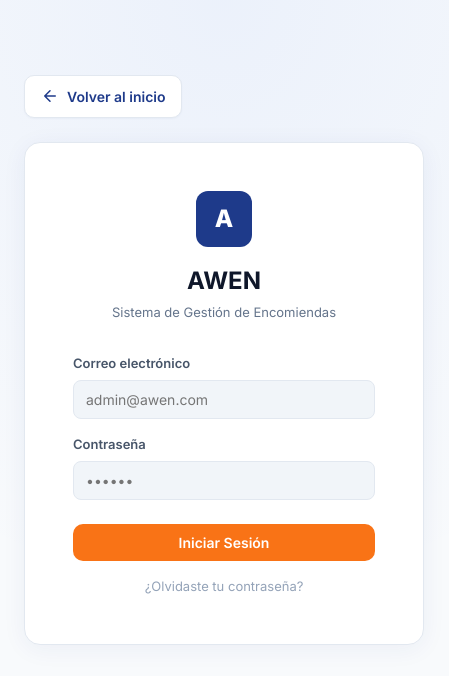
Login page › shows error on failed login
The width and height of the screenshot is (449, 676).
In the field: (224, 400) [73,380,375,419], type "bad@test.com"
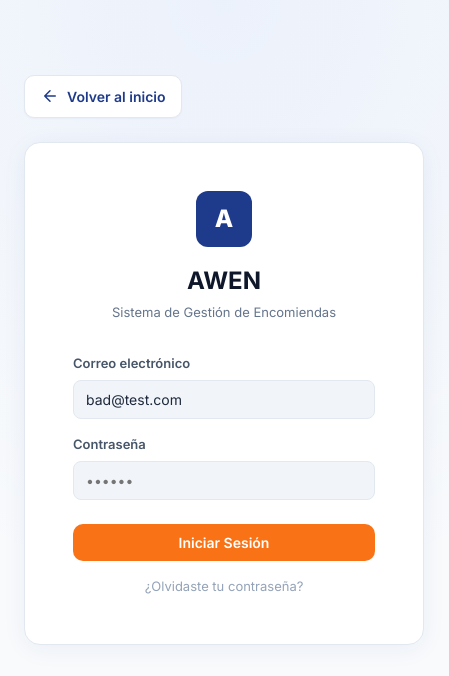
In the password field with placeholder "••••••": (224, 480) [73,460,375,500], type "wrong"
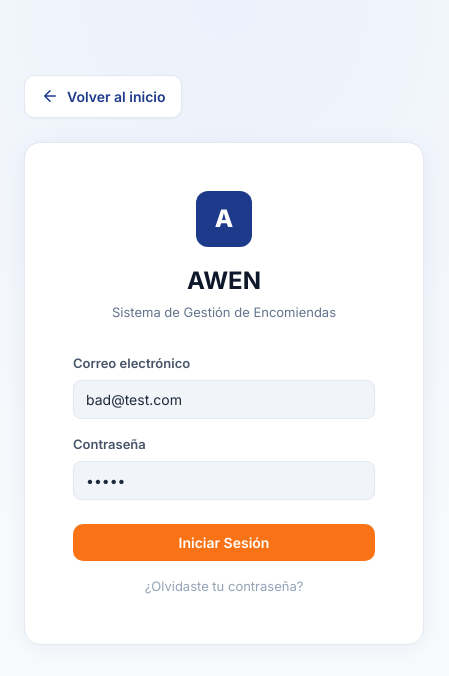
Click the button "Iniciar Sesión": (224, 542) [73,524,375,560]
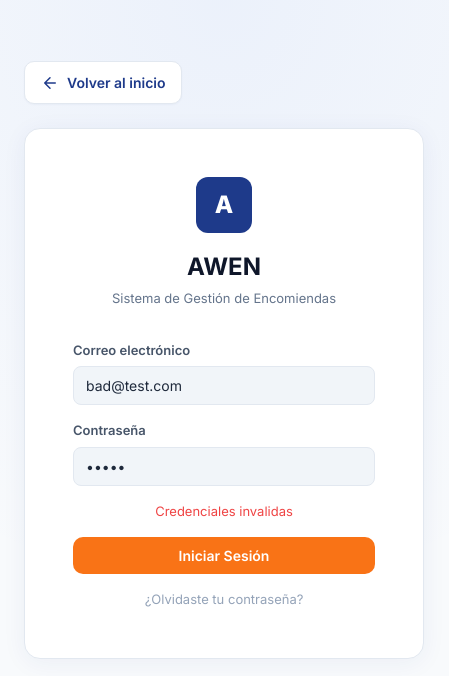
Result: the text "Credenciales invalidas" is shown at [155,503,293,519]
